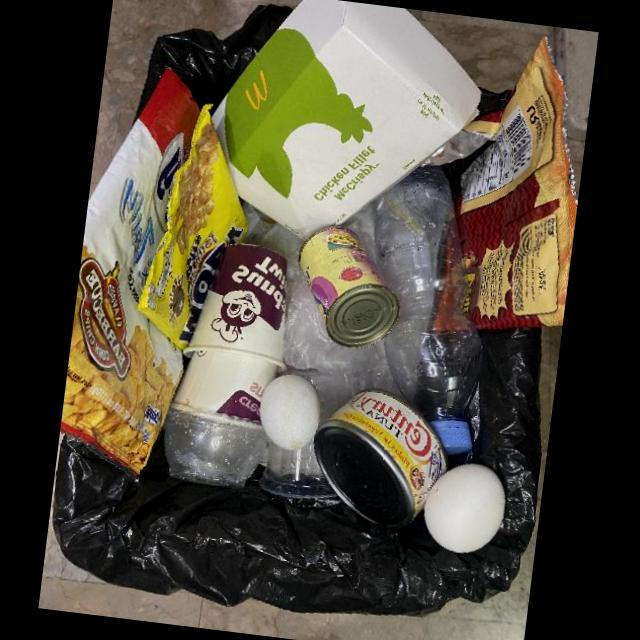bao_bi_thuc_pham: (60, 63, 200, 472), (431, 37, 575, 332)
carton: (211, 0, 481, 239), (186, 245, 287, 363), (173, 350, 277, 423)
chai_nhua_pet: (370, 163, 481, 456)
hop_nhua: (257, 373, 337, 499), (164, 410, 266, 488)
nhom: (137, 108, 247, 356), (312, 390, 450, 533), (298, 227, 399, 349)
vo_trung: (424, 461, 505, 553), (260, 375, 320, 450)
